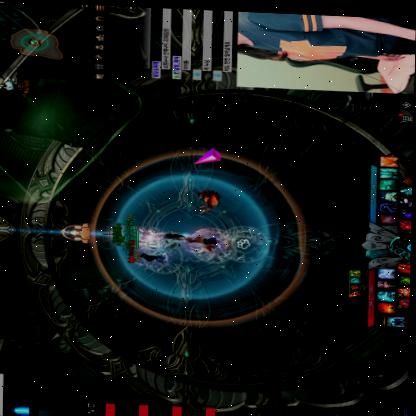streamer: (237, 8, 416, 63)
